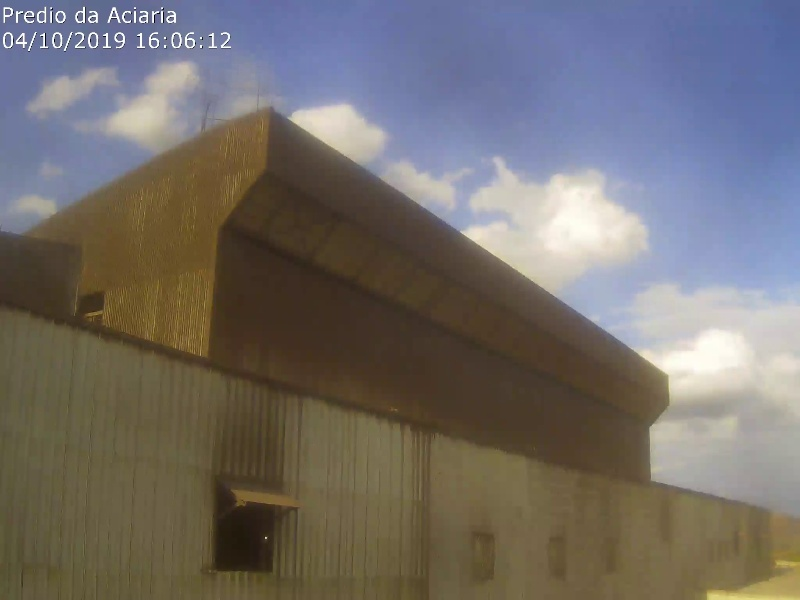bom: (338, 1, 800, 251), (526, 139, 800, 411)
